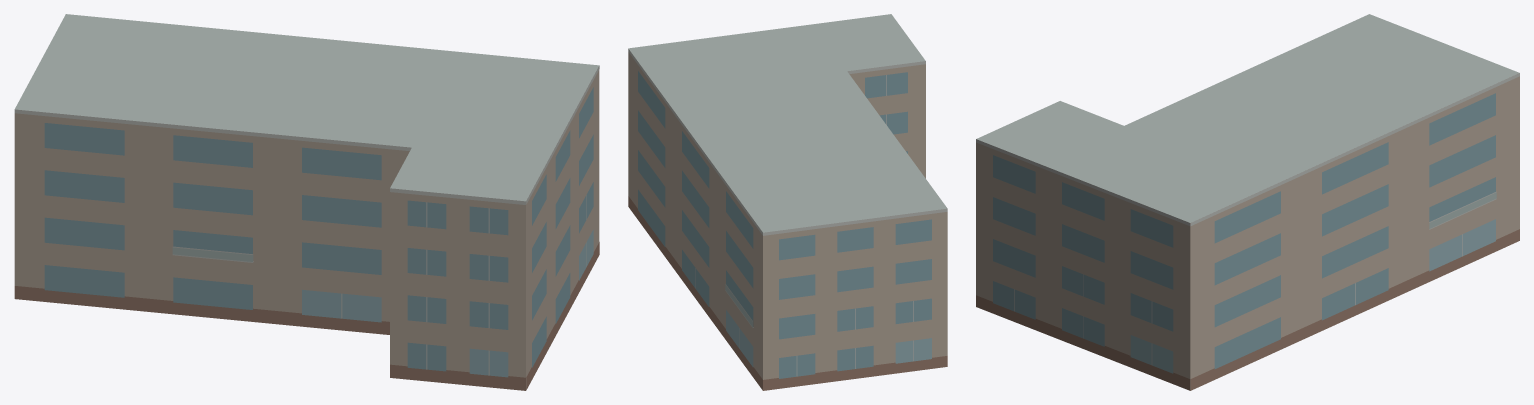
File: residential-b25355c9-b49b-4fef-a135-80952c722b22.glb
3 views of the same model, side by side, from view 1: azimuth 30°, elevation 25°; view 2: azimuth 150°, elevation 25°; view 3: azimuth 270°, elevation 25° (orthographic). The views are drawn at different scales.
Parts seen in each view (by area): view 1: residential-b25355c9-b49b-4fef-a135-80952c722b22.tmp; view 2: residential-b25355c9-b49b-4fef-a135-80952c722b22.tmp; view 3: residential-b25355c9-b49b-4fef-a135-80952c722b22.tmp.
Part boxes in pixels (x1,y1,x2,y2): residential-b25355c9-b49b-4fef-a135-80952c722b22.tmp: (14, 14, 599, 390); residential-b25355c9-b49b-4fef-a135-80952c722b22.tmp: (628, 14, 947, 390); residential-b25355c9-b49b-4fef-a135-80952c722b22.tmp: (976, 14, 1519, 390).
Bounding box in the file's own units: 32.59 × 12.2 × 35.82.
